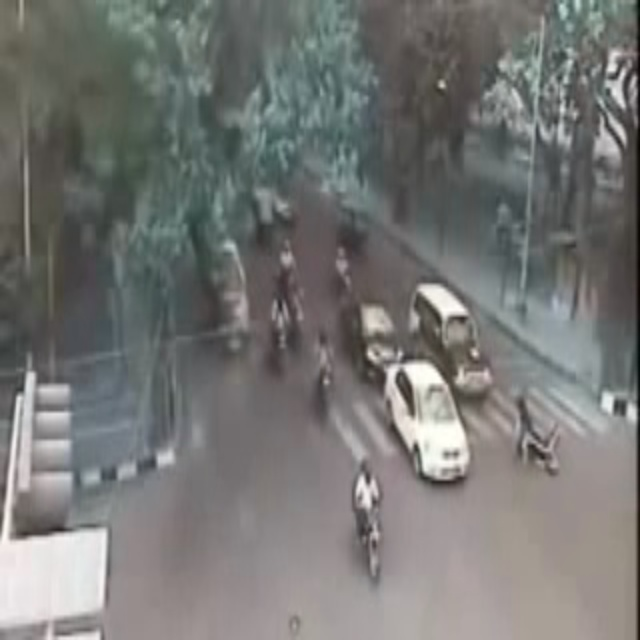acc: (502, 393, 570, 480)
